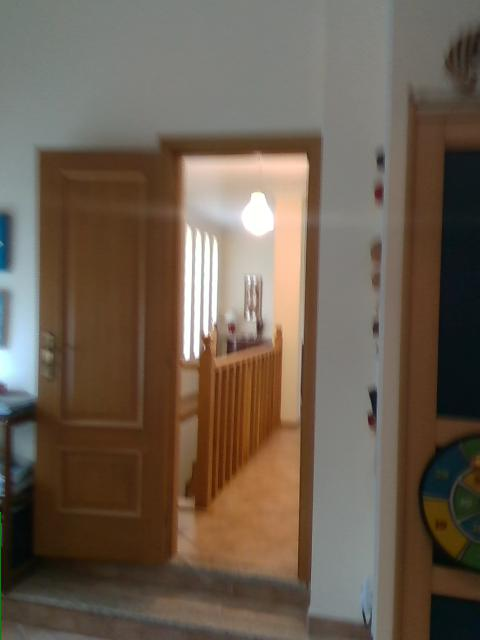open_door: (154, 129, 323, 599)
